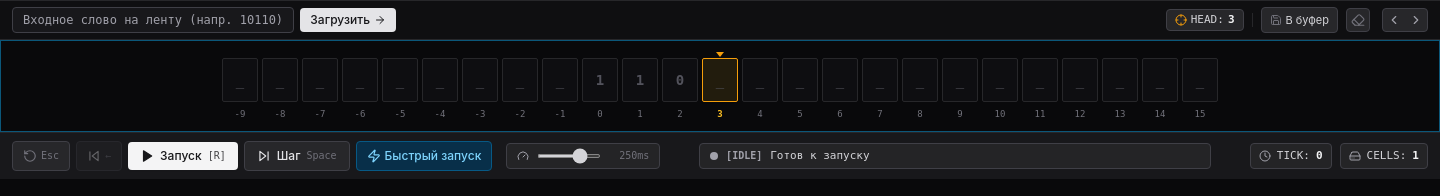
Test: React UI Components › InfiniteTapeDock sets head after word, supports keyboard-only cell editing, routes errors to DebuggerControls, and hides Reset Tape
Earlier steps of the test are not shown.
Later steps or results of the test are not shown.
Typing a valid symbol immediately updates the highlighted head cell without an extra click
Press 1 in the element named "Лента Тьюринга", box [0,40,1439,132]
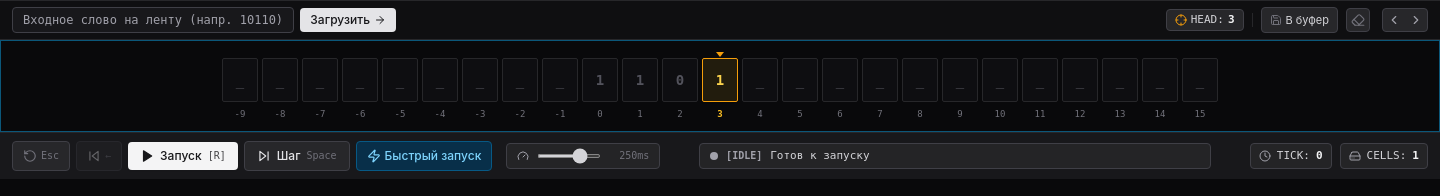
Typing an invalid symbol puts the error into DebuggerControls status bar
Press Z in the element named "Лента Тьюринга", box [0,40,1439,132]
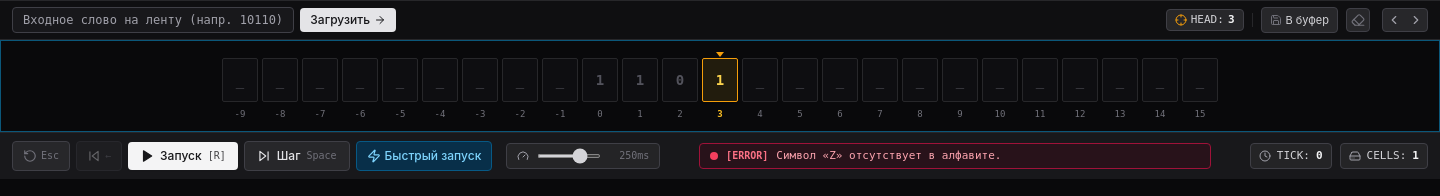
Expected: the message shows "Символ «Z» отсутствует в алфавите.", [776,149,1002,162]
Single click on a cell selects it without opening any popup menu and allows immediate keyboard edit
Click the 1st element titled "Ячейка [0]" at (600, 80), box [582,58,618,102]
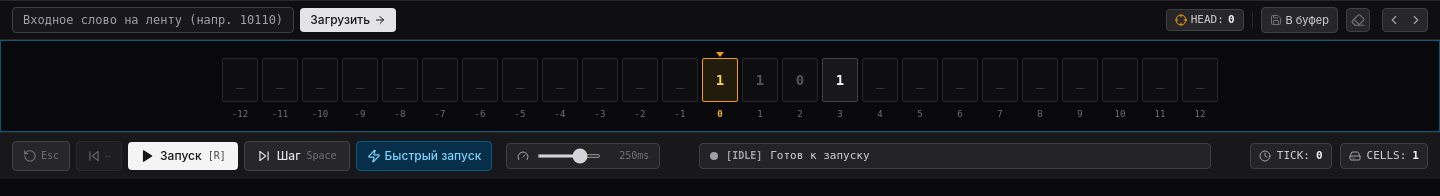
Press 0 in the element named "Лента Тьюринга", box [0,40,1439,132]
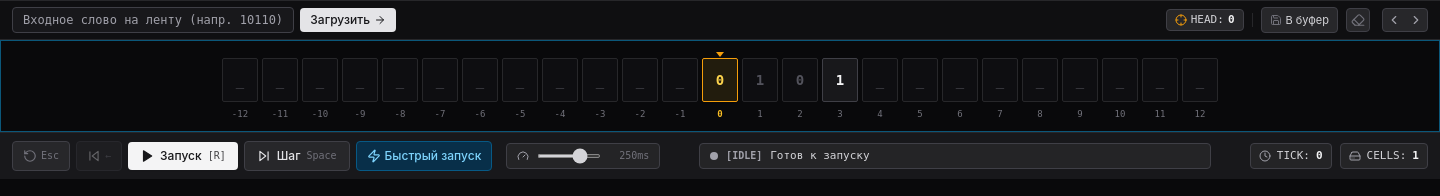
Scroll right shows "К головке" button and clicking resets offset
Click the button titled "Прокрутить ленту вправо" at (1416, 20), box [1405,9,1427,31]
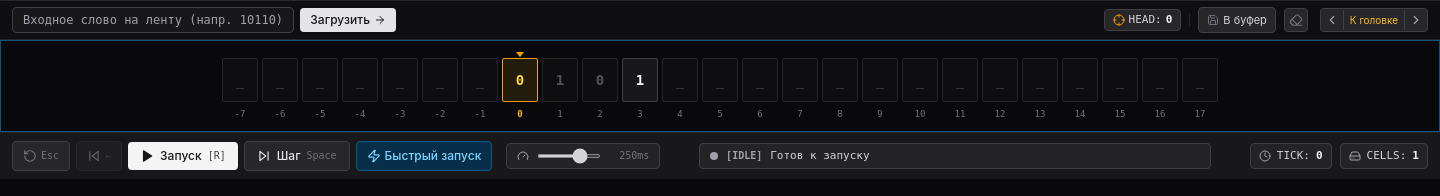
Click the button "К головке" at (1374, 20), box [1343,10,1405,30]
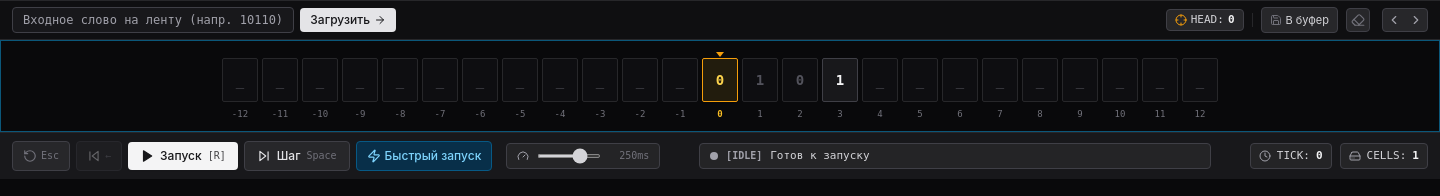
Expected: the button "К головке" is gone
